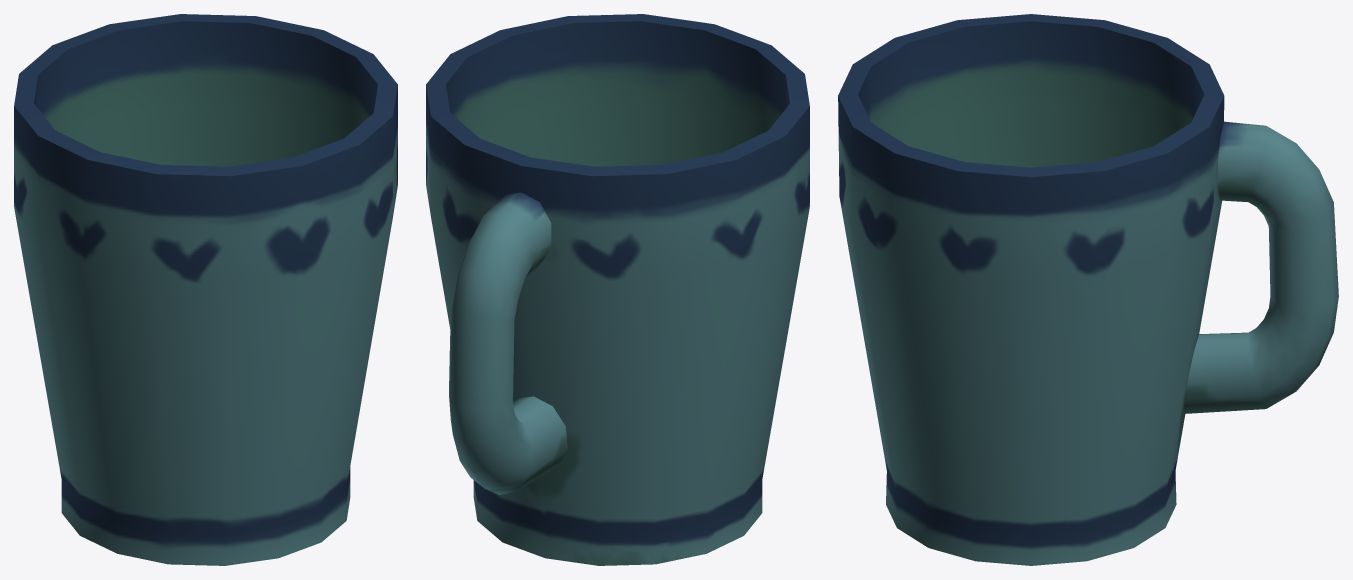
Rendered from mugga.fbx.
3 views of the same model, side by side, from view 1: azimuth 30°, elevation 25°; view 2: azimuth 150°, elevation 25°; view 3: azimuth 270°, elevation 25° (orthographic).
Visible parts, largest first — view 1: pCylinder1; view 2: pCylinder1, Manche; view 3: pCylinder1, Manche.
Part boxes in pixels (box(x1,y1,x2,y2)): pCylinder1: box(14, 14, 397, 565); pCylinder1: box(426, 14, 809, 565); Manche: box(449, 192, 567, 494); pCylinder1: box(838, 14, 1224, 565); Manche: box(1183, 121, 1338, 413).
Size of the model in its own units: 2.66 by 3.11 by 3.45.
